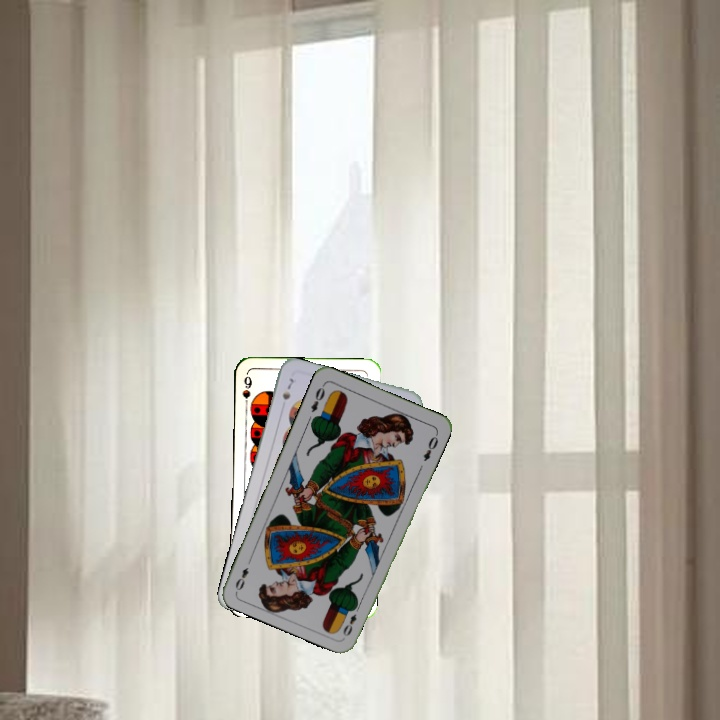EO: (339, 600, 363, 639), (307, 380, 328, 415)
S7: (278, 374, 296, 402)
S9: (239, 372, 255, 412)
